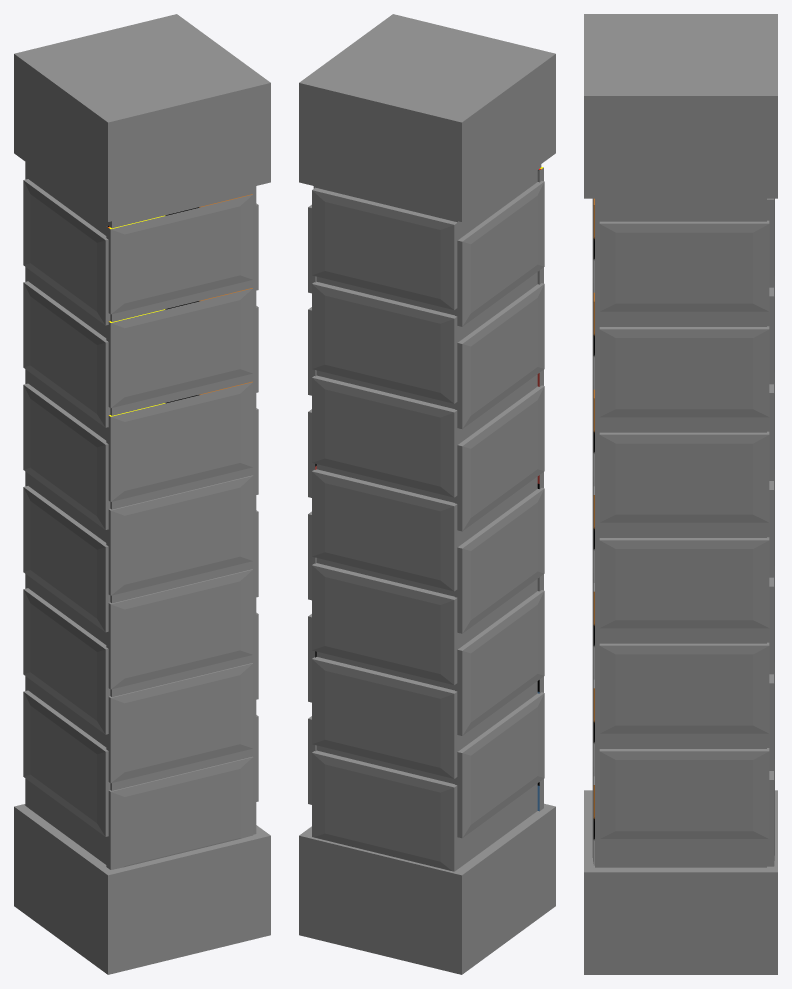
The model's file is Pillar.fbx.
The picture shows the model from 3 angles, left to right: view 1: azimuth 30°, elevation 25°; view 2: azimuth 150°, elevation 25°; view 3: azimuth 270°, elevation 25°; orthographic projection. The views are drawn at different scales.
Visible parts, largest first — view 1: Pillar; view 2: Pillar; view 3: Pillar.
Boxes of the visible parts, <box> form: Pillar: <box>14,14,270,974</box>; Pillar: <box>299,14,555,974</box>; Pillar: <box>584,14,777,974</box>.
Size of the model in its own units: 40 by 200 by 40.
